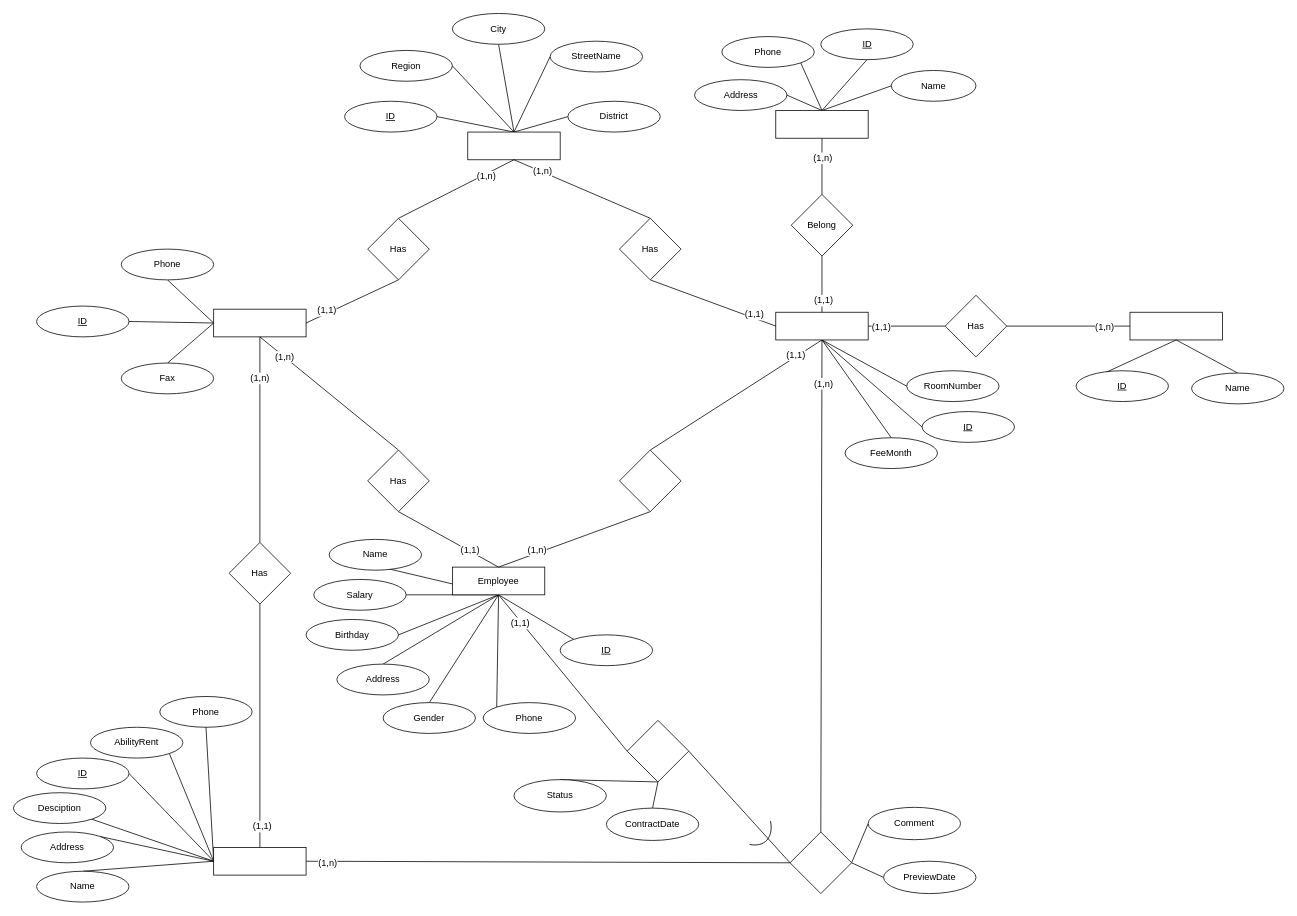
Some shapes in this 1297 by 916 pixel diagram are drawn without their labels. The centre of each missing label's shape, as x and y in pixels:
"Assign" goes at (650,480).
"BranchOffice" goes at (259,322).
"Contract" goes at (657,751).
"Customer" goes at (259,861).
"House" goes at (821,325).
"Householder" goes at (821,124).
"HouseType" goes at (1175,325).
"Location" goes at (513,145).
"Preview" goes at (820,862).
